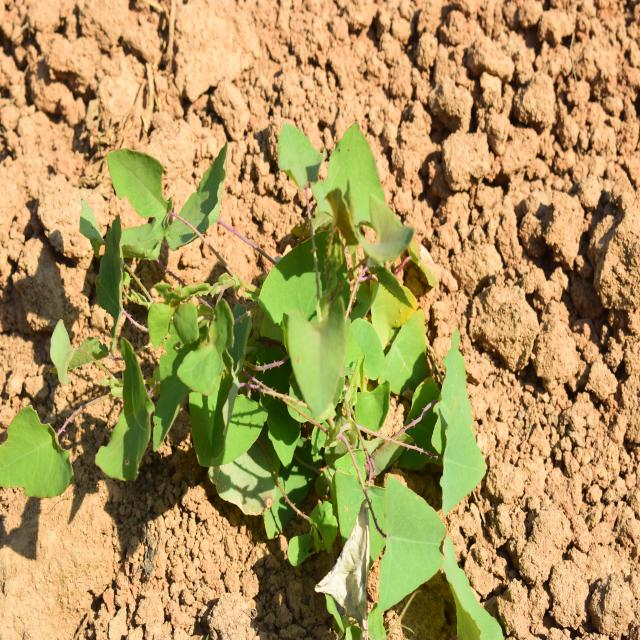Asiatic_Smartweed: (249, 128, 424, 428), (98, 274, 267, 488), (367, 327, 486, 592), (87, 133, 246, 279)
